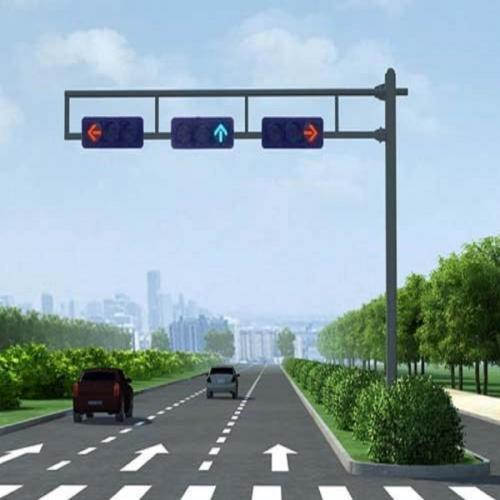green: (169, 114, 238, 154)
red: (79, 113, 148, 152), (260, 115, 328, 153)
